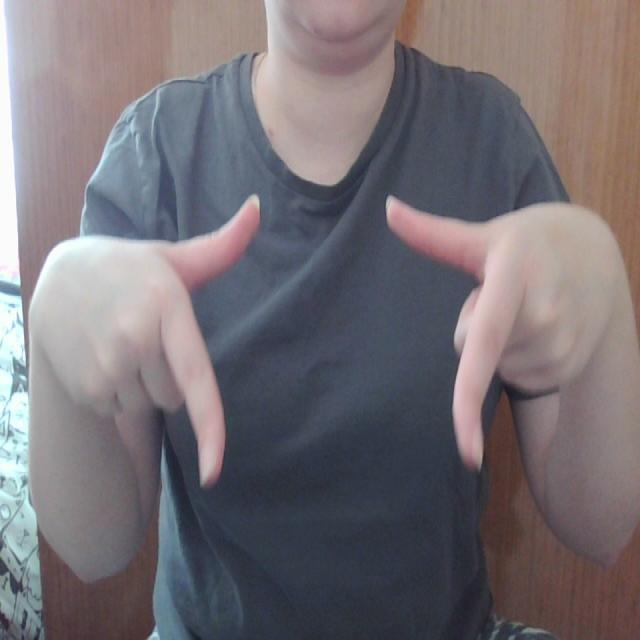Nerede: (151, 186, 515, 494)
